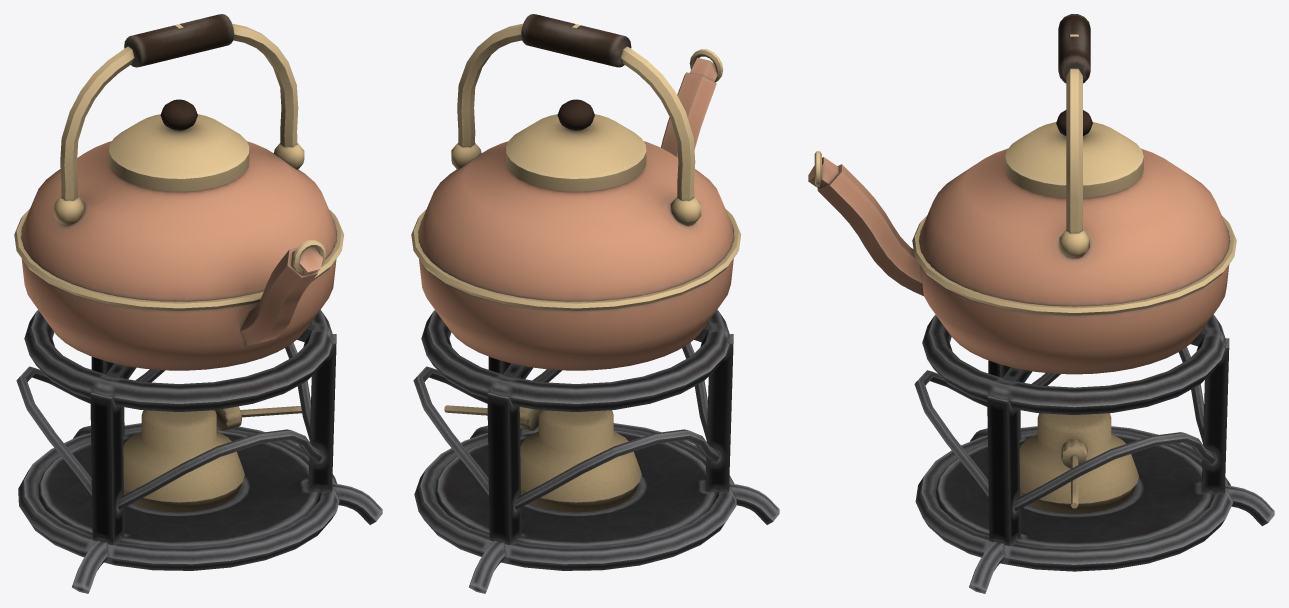
Rendered from SpiritKettle.fbx.
3 views of the same model, side by side, from view 1: azimuth 30°, elevation 25°; view 2: azimuth 150°, elevation 25°; view 3: azimuth 270°, elevation 25° (orthographic).
Visible parts, largest first — view 1: SpiritKettle; view 2: SpiritKettle; view 3: SpiritKettle.
Boxes of the visible parts, x1,y1,x2,y2 form: SpiritKettle: (14, 14, 382, 593); SpiritKettle: (411, 14, 779, 593); SpiritKettle: (808, 14, 1274, 593).
Size of the model in its own units: 76.18 by 117 by 101.
